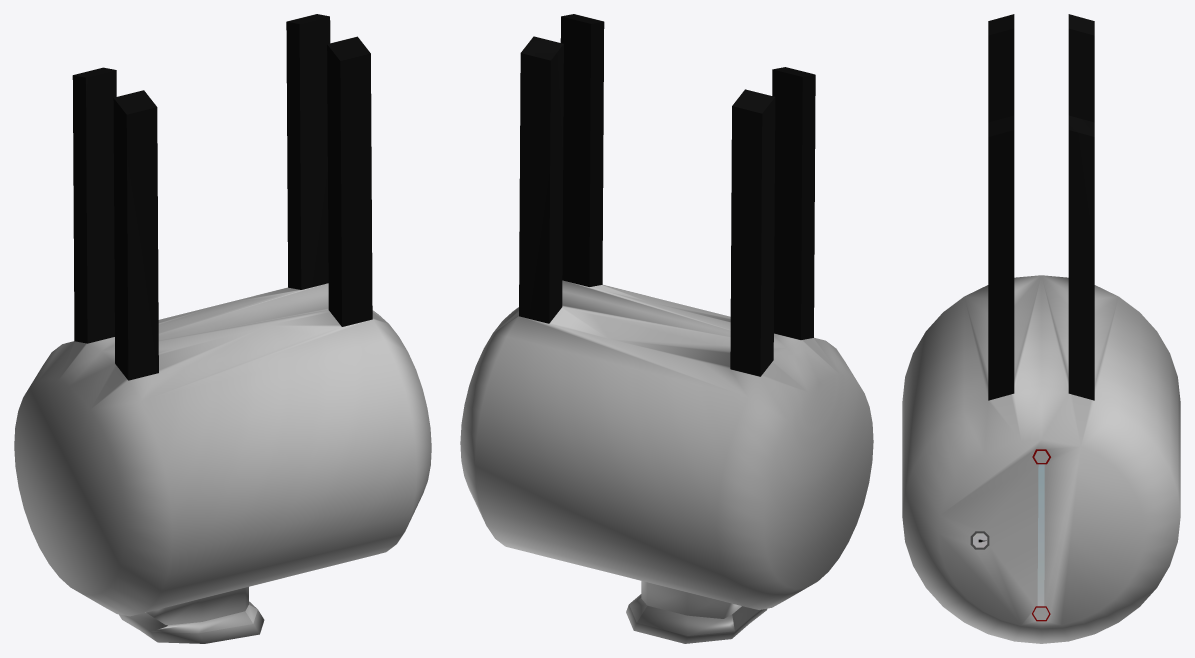
File: Caldera pequeña.fbx
3 renders of one model, left to right at view 1: azimuth 30°, elevation 25°; view 2: azimuth 150°, elevation 25°; view 3: azimuth 270°, elevation 25°, orthographic.
Parts seen in each view (by area): view 1: Cylinder; view 2: Cylinder; view 3: Cylinder.
Boxes of the visible parts, bbox=[...] form: Cylinder: bbox=[14, 14, 431, 643]; Cylinder: bbox=[460, 14, 873, 643]; Cylinder: bbox=[902, 14, 1180, 643].
Bounding box in the file's own units: 249 × 427 × 196.
